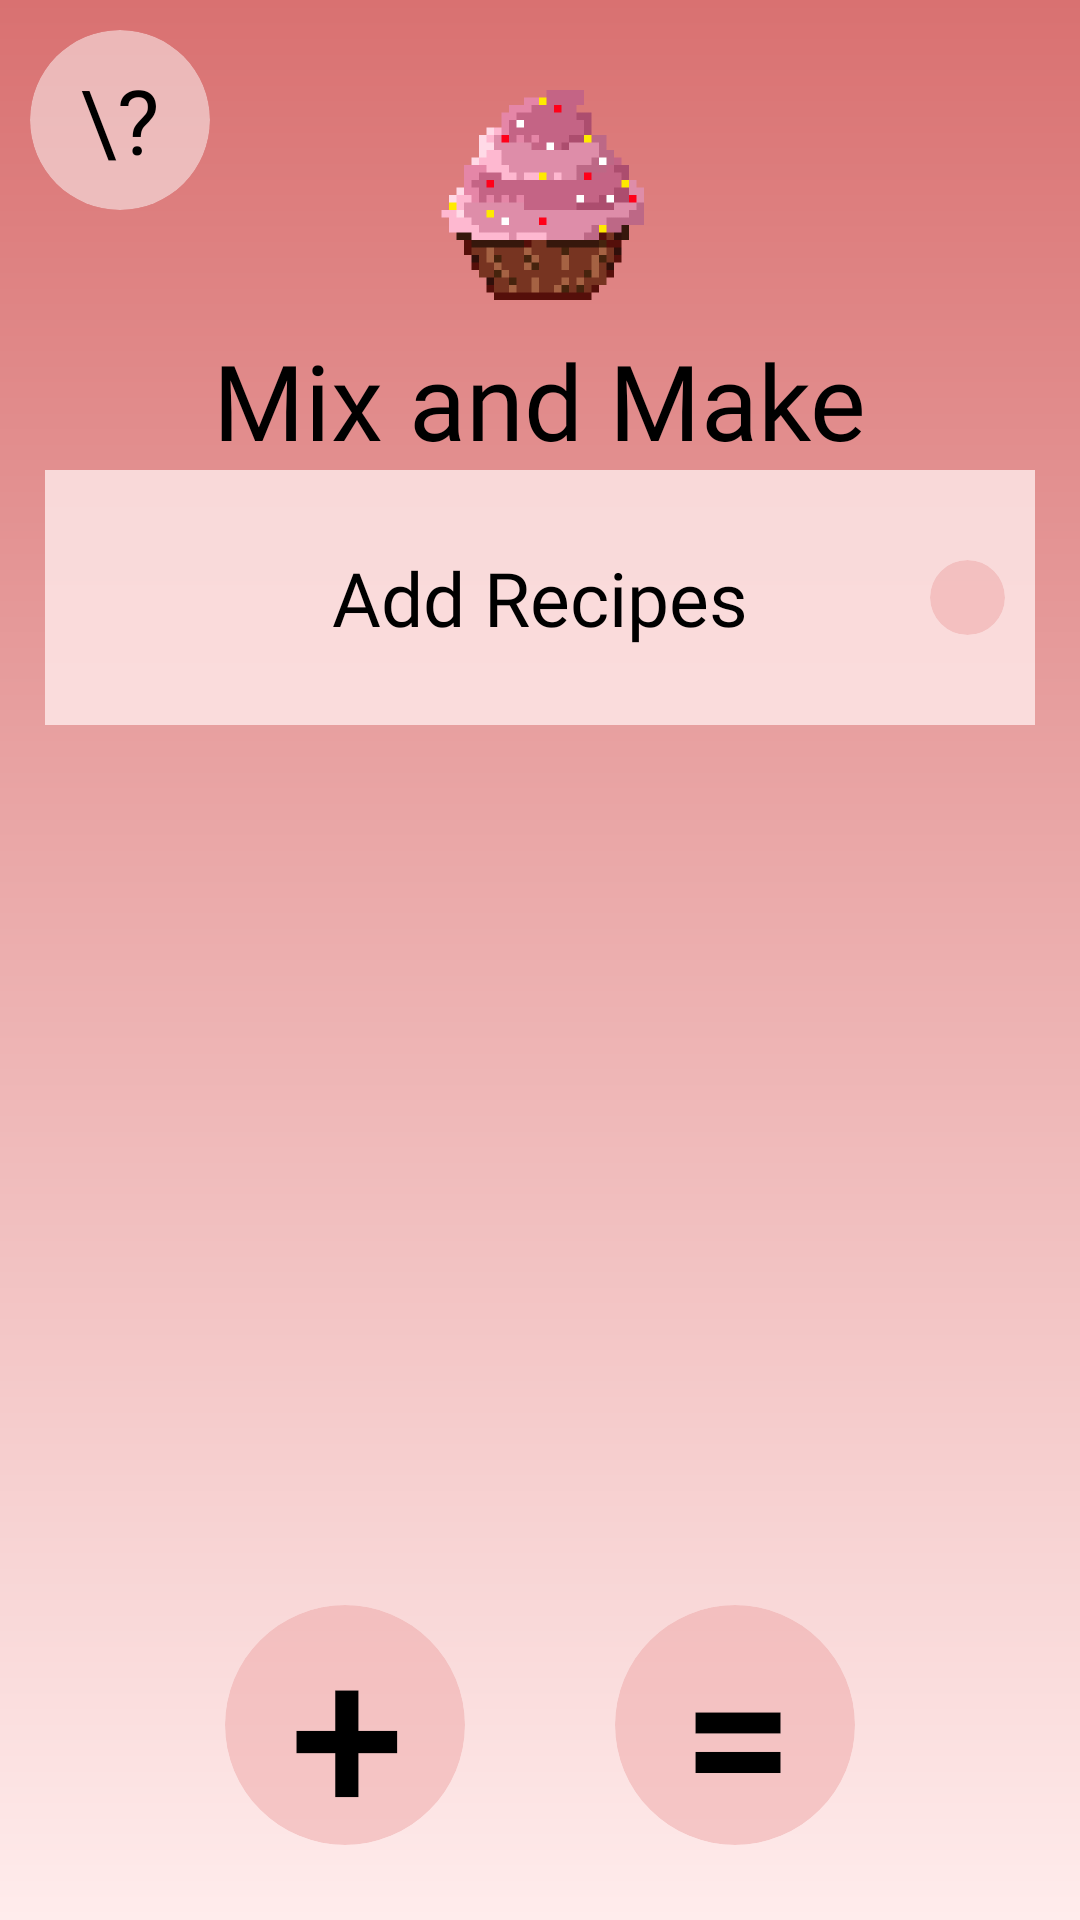

Screen size 1080 × 1920. Icon name, then its box in pixels as (x1, y1, x2, y2):
cupcake: (441, 90, 644, 300)
